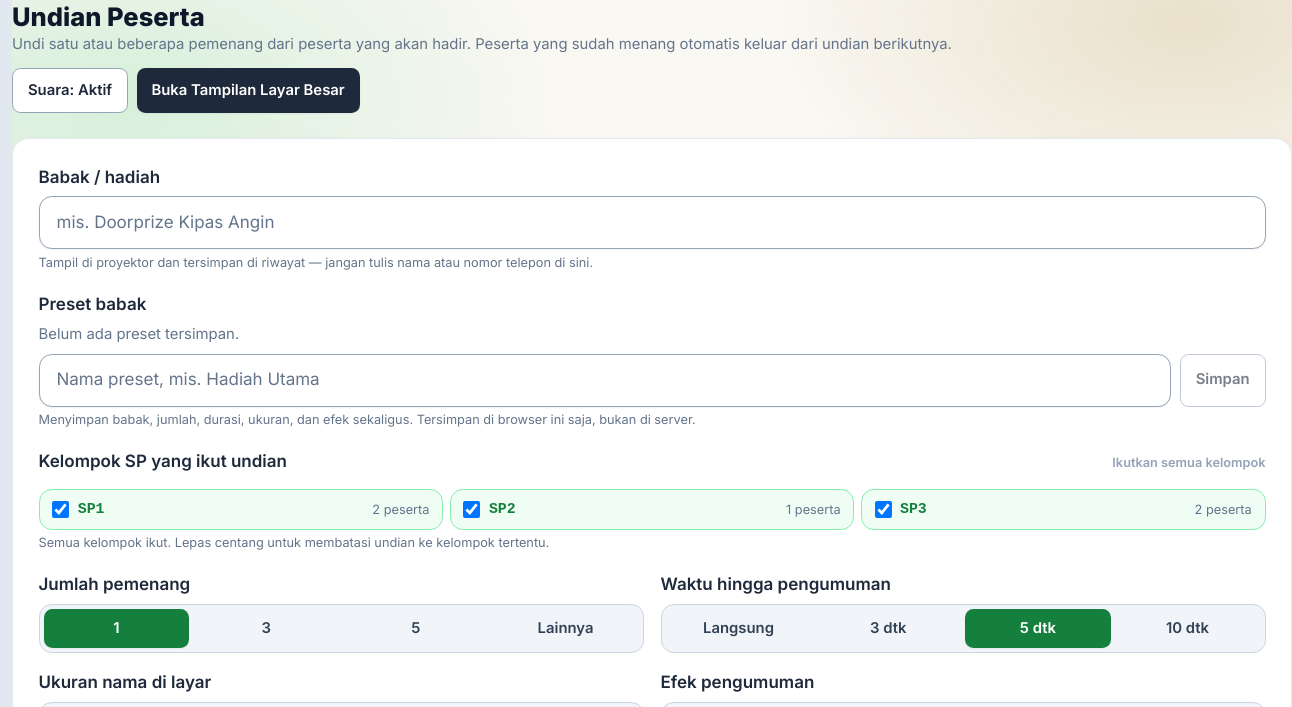
it: LotteryControlPage — filter kelompok SP › mengunci centang terakhir — melepasnya justru akan mengikutkan semua kelompok
The width and height of the screenshot is (1292, 707).
Click the checkbox labelled "SP2 1 peserta" at coordinates (472, 510), box top-left (463, 501), bottom-right (480, 518)
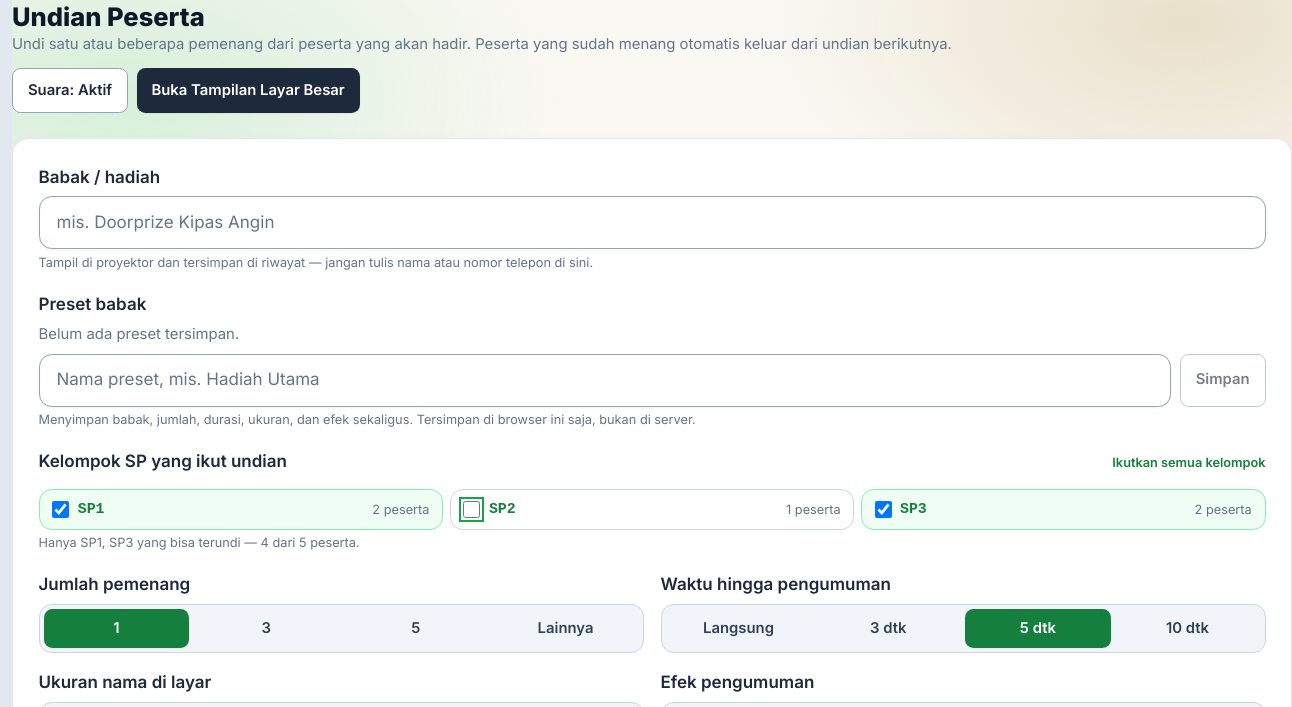
Click the checkbox labelled "SP3 2 peserta" at coordinates (883, 510), box top-left (874, 501), bottom-right (892, 518)
(page scrolled)
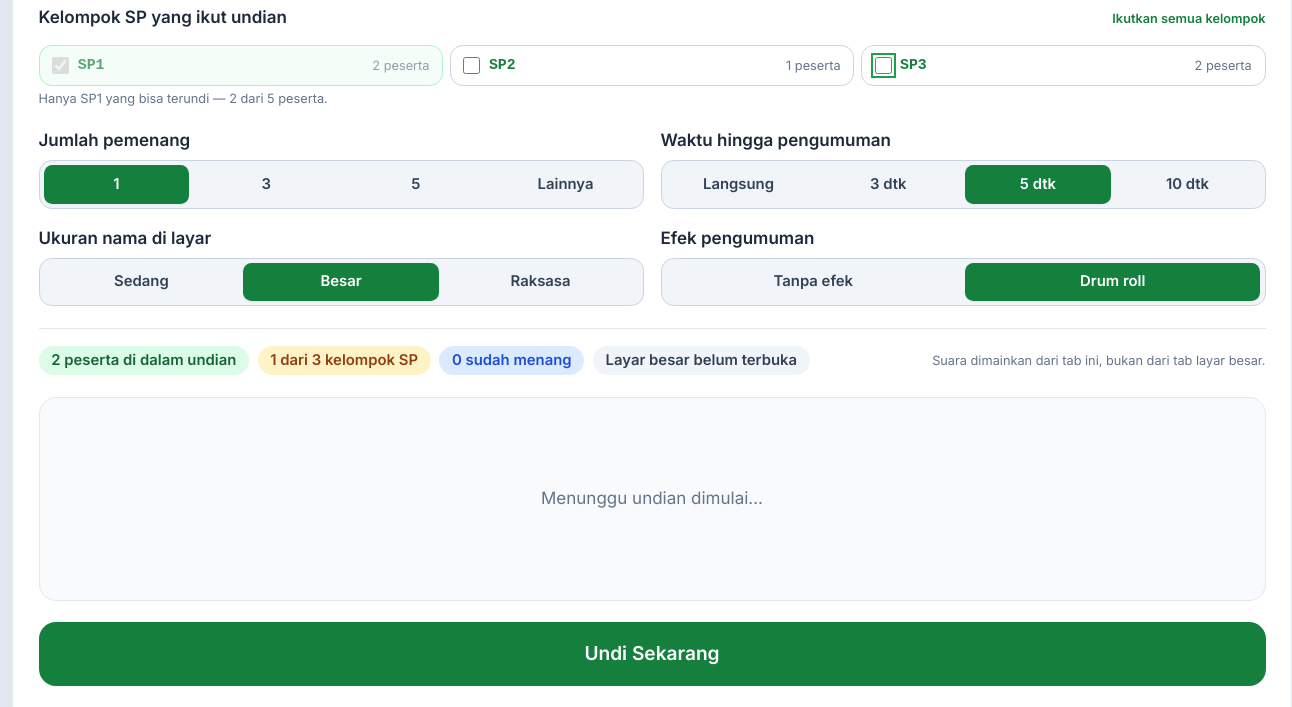
Expected: the checkbox labelled "SP1 2 peserta" is checked, top-left (52, 57), bottom-right (69, 74)
Now the checkbox labelled "SP1 2 peserta" is disabled, box top-left (52, 57), bottom-right (69, 74)
Now the text "2 peserta di dalam undian" is shown, box top-left (38, 346), bottom-right (249, 375)
